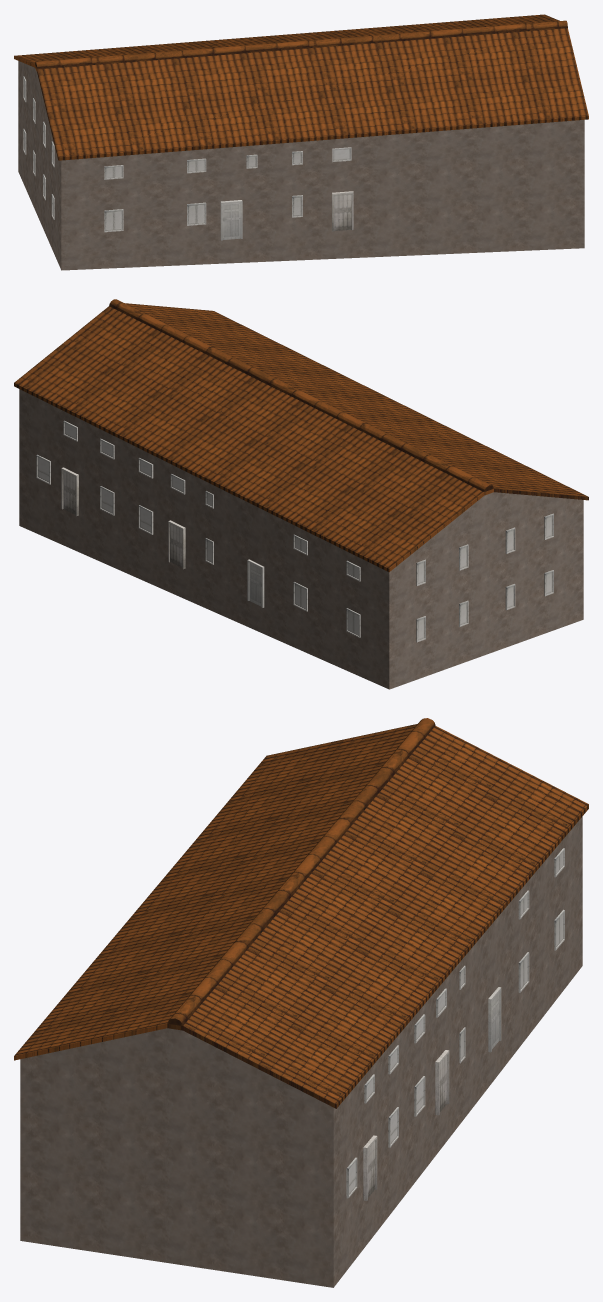
Rendered from Casa_29.fbx.
3 renders of one model, top to bottom at view 1: azimuth 30°, elevation 25°; view 2: azimuth 150°, elevation 25°; view 3: azimuth 270°, elevation 25°, orthographic. The views are drawn at different scales.
Parts seen in each view (by area): view 1: Casa_29; view 2: Casa_29; view 3: Casa_29.
Part boxes in pixels (bbox=[...]): Casa_29: bbox=[14, 14, 588, 270]; Casa_29: bbox=[14, 299, 588, 689]; Casa_29: bbox=[14, 718, 588, 1287].
Bounding box in the file's own units: 28.32 × 9.39 × 19.73.
